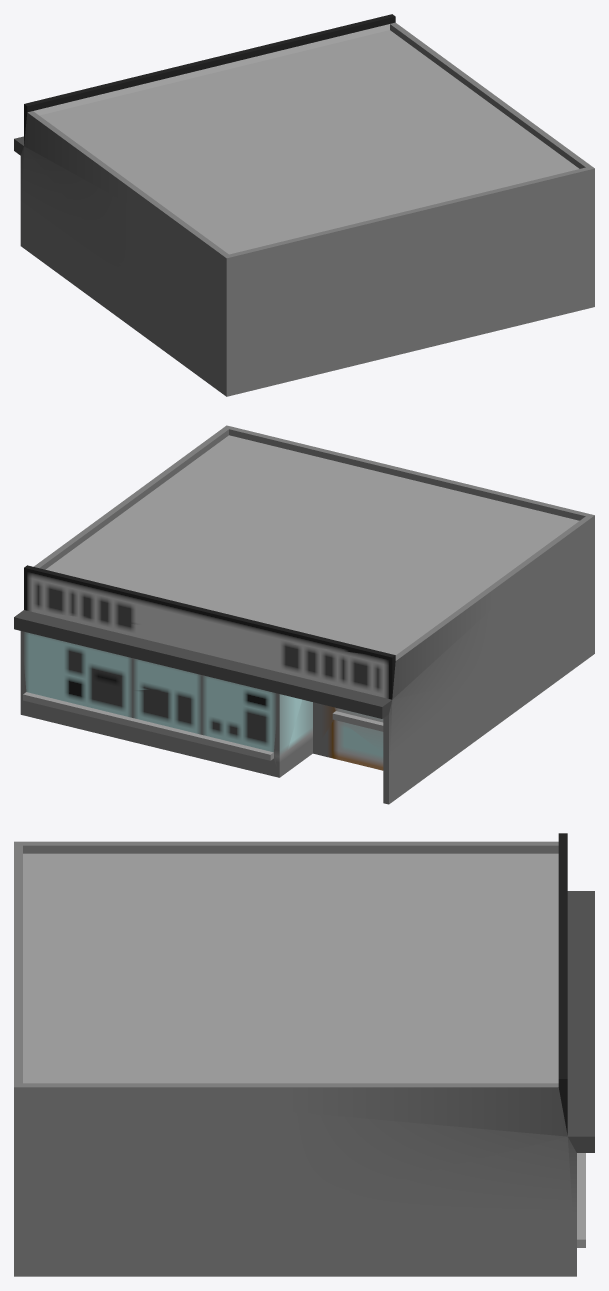
File: obj_store05.fbx
3 renders of one model, top to bottom at view 1: azimuth 30°, elevation 25°; view 2: azimuth 150°, elevation 25°; view 3: azimuth 270°, elevation 25°, orthographic. The views are drawn at different scales.
Visible parts, largest first — view 1: obj_store05; view 2: obj_store05; view 3: obj_store05.
Part boxes in pixels (left/top/right/bottom): obj_store05: left=14, top=14, right=594, bottom=396; obj_store05: left=14, top=425, right=594, bottom=804; obj_store05: left=14, top=833, right=594, bottom=1276.
Bounding box in the file's own units: 6.4 × 6.4 × 2.4.
1 material, 1 textured.
